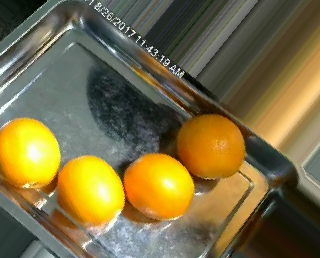Orange: (57, 154, 125, 227), (122, 152, 193, 220), (178, 113, 246, 179), (1, 116, 61, 188)
